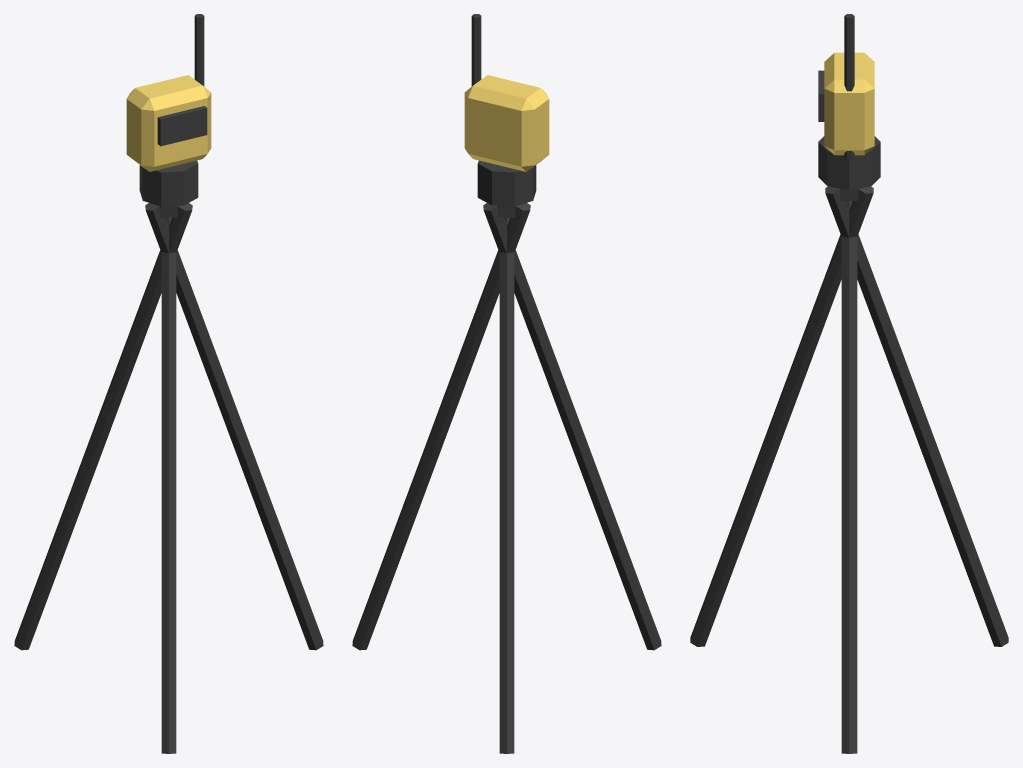
The picture shows the model from 3 angles, left to right: view 1: azimuth 30°, elevation 25°; view 2: azimuth 150°, elevation 25°; view 3: azimuth 270°, elevation 25°; orthographic projection. The views are drawn at different scales.
Visible parts, largest first — view 1: Leg.002, Leg, Leg.001, Meter, Mount, Readout, Probe; view 2: Leg.001, Leg, Leg.002, Meter, Mount, Probe; view 3: Leg, Leg.001, Leg.002, Meter, Mount, Probe.
Part boxes in pixels (x1=…): Leg.002: x1=161, y1=217, x2=176, y2=753; Leg: x1=145, y1=203, x2=323, y2=650; Leg.001: x1=14, y1=203, x2=192, y2=650; Meter: x1=126, y1=75, x2=211, y2=171; Mount: x1=139, y1=160, x2=198, y2=206; Readout: x1=157, y1=106, x2=207, y2=146; Probe: x1=194, y1=14, x2=204, y2=86; Leg.001: x1=499, y1=217, x2=514, y2=753; Leg: x1=352, y1=203, x2=530, y2=650; Leg.002: x1=483, y1=203, x2=661, y2=650; Meter: x1=464, y1=75, x2=549, y2=171; Mount: x1=477, y1=160, x2=536, y2=206; Probe: x1=471, y1=14, x2=481, y2=86; Leg: x1=841, y1=201, x2=857, y2=753; Leg.001: x1=825, y1=186, x2=1008, y2=646; Leg.002: x1=690, y1=186, x2=873, y2=646; Meter: x1=824, y1=52, x2=874, y2=155; Mount: x1=818, y1=136, x2=880, y2=190; Probe: x1=844, y1=14, x2=854, y2=158.
Bounding box in the file's own units: 0.5033 × 1.35 × 0.5725.
Materials: 1 (1 with a texture image).
